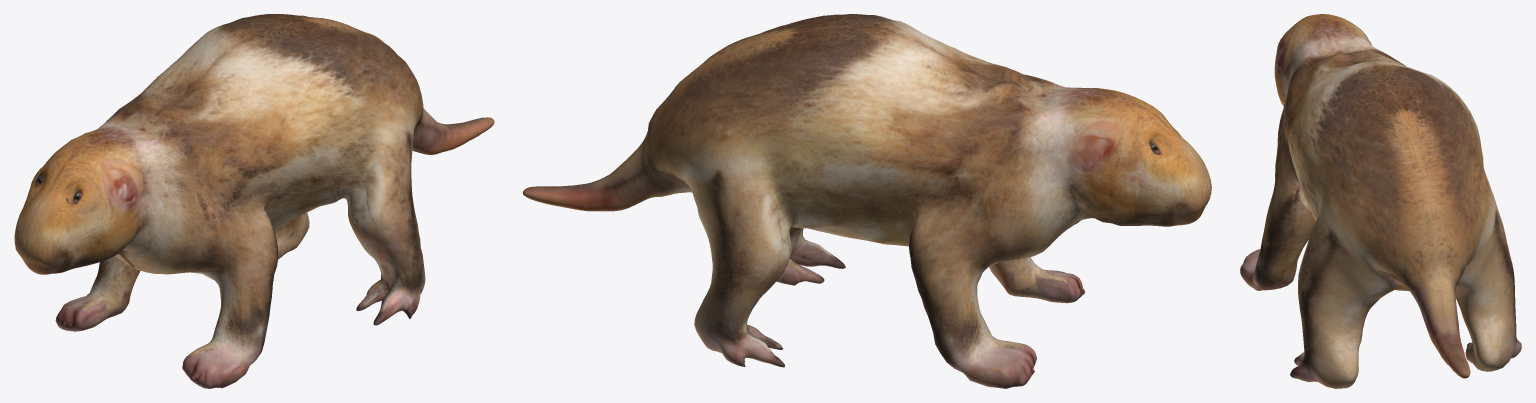
The picture shows the model from 3 angles, left to right: view 1: azimuth 30°, elevation 25°; view 2: azimuth 150°, elevation 25°; view 3: azimuth 270°, elevation 25°; orthographic projection. The views are drawn at different scales.
Visible parts, largest first — view 1: 14_Magallanodon; view 2: 14_Magallanodon; view 3: 14_Magallanodon.
Part boxes in pixels (x1,y1,x2,y2): 14_Magallanodon: (14, 14, 494, 388); 14_Magallanodon: (523, 14, 1211, 388); 14_Magallanodon: (1240, 14, 1521, 388).
Size of the model in its own units: 0.0799 by 0.0382 by 0.0376.
1 material, 1 textured.
